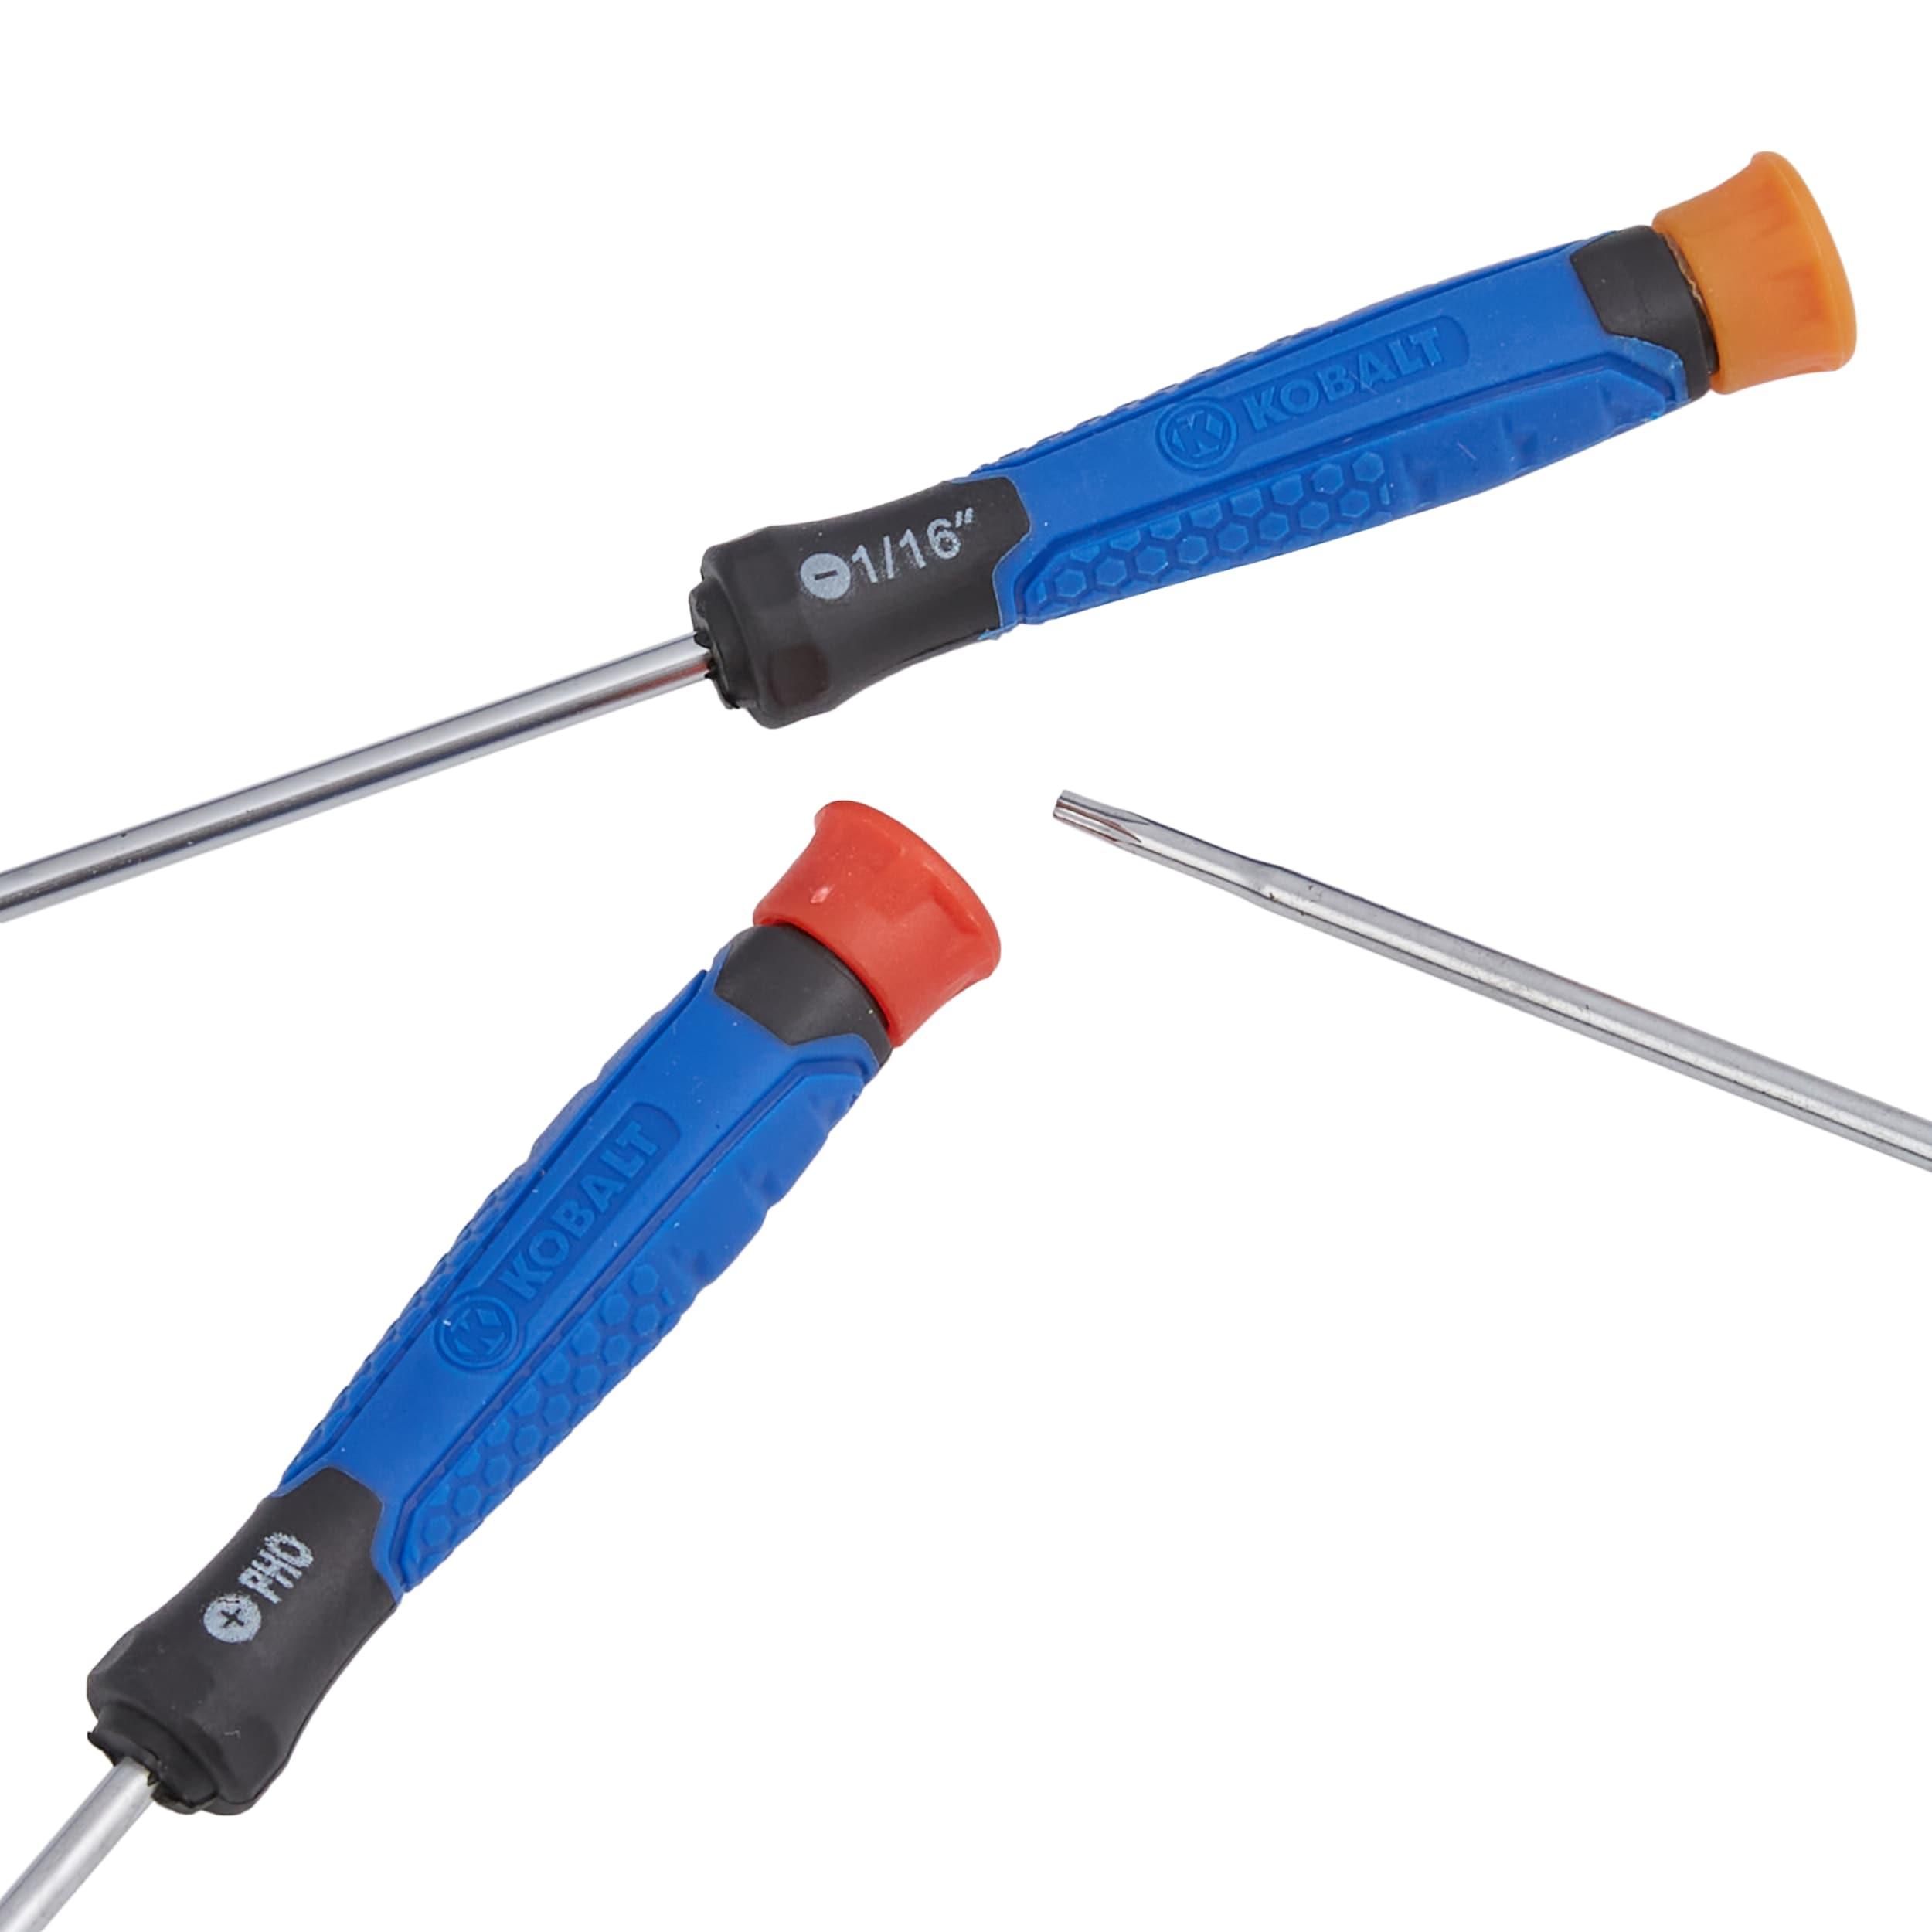screwdriver: (0, 147, 1854, 938)
